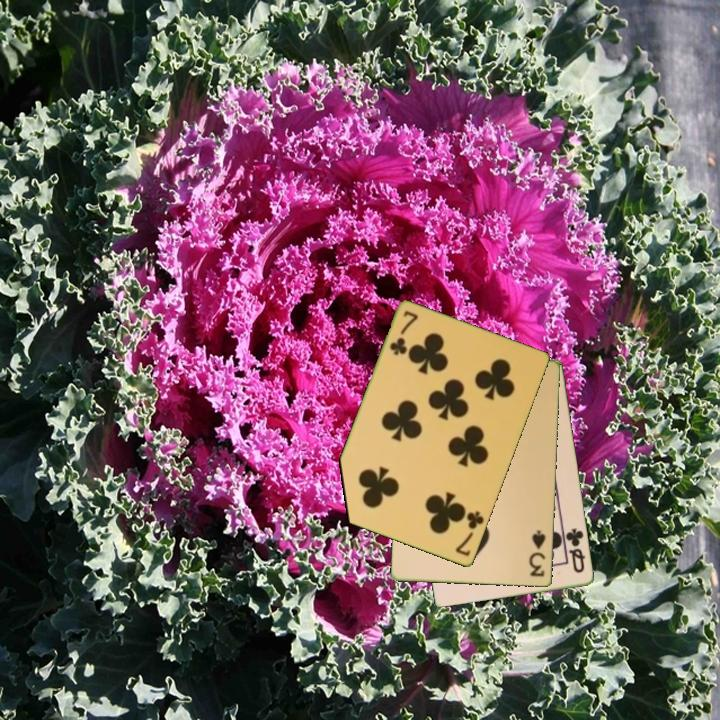3s: (526, 527, 548, 580)
7c: (452, 508, 487, 559), (386, 307, 421, 358)
Qc: (562, 525, 589, 576)
